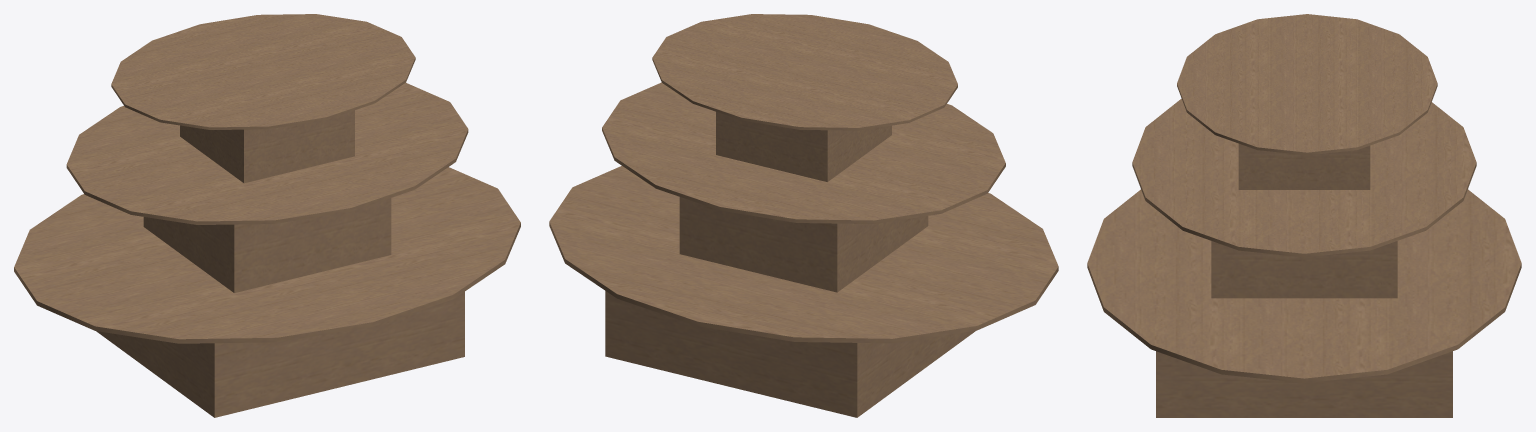
Rendered from shelfshelf.fbx.
3 renders of one model, left to right at view 1: azimuth 30°, elevation 25°; view 2: azimuth 150°, elevation 25°; view 3: azimuth 270°, elevation 25°, orthographic. The views are drawn at different scales.
Parts seen in each view (by area): view 1: pCylinder10, pCylinder11, pCylinder12, pCube32, pCube33, pCube34; view 2: pCylinder10, pCylinder11, pCylinder12, pCube32, pCube33, pCube34; view 3: pCylinder10, pCylinder11, pCylinder12, pCube32, pCube33, pCube34.
Part boxes in pixels (left/top/right/bottom): pCylinder10: left=14, top=167, right=520, bottom=343; pCylinder11: left=66, top=82, right=468, bottom=224; pCylinder12: left=111, top=14, right=415, bottom=129; pCube32: left=96, top=291, right=464, bottom=417; pCube33: left=143, top=198, right=391, bottom=292; pCube34: left=180, top=110, right=354, bottom=183; pCylinder10: left=549, top=166, right=1058, bottom=343; pCylinder11: left=602, top=82, right=1005, bottom=223; pCylinder12: left=652, top=14, right=957, bottom=130; pCube32: left=605, top=291, right=975, bottom=417; pCube33: left=679, top=197, right=928, bottom=292; pCube34: left=716, top=112, right=891, bottom=181; pCylinder10: left=1087, top=189, right=1521, bottom=383; pCylinder11: left=1132, top=98, right=1476, bottom=257; pCylinder12: left=1177, top=14, right=1437, bottom=155; pCube32: left=1156, top=351, right=1452, bottom=417; pCube33: left=1211, top=241, right=1397, bottom=298; pCube34: left=1238, top=143, right=1370, bottom=189.
Size of the model in its own units: 3.86 by 2.11 by 3.07.
